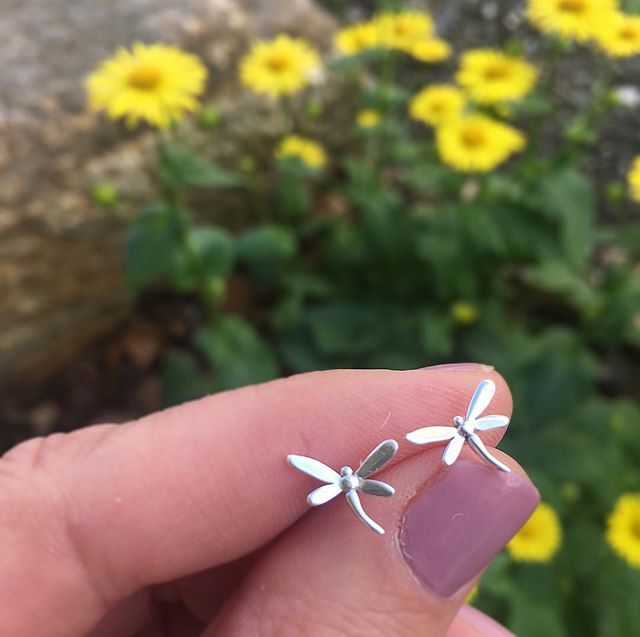dandelion: (75, 57, 210, 107), (529, 3, 640, 58), (241, 36, 324, 100), (437, 108, 508, 177)
